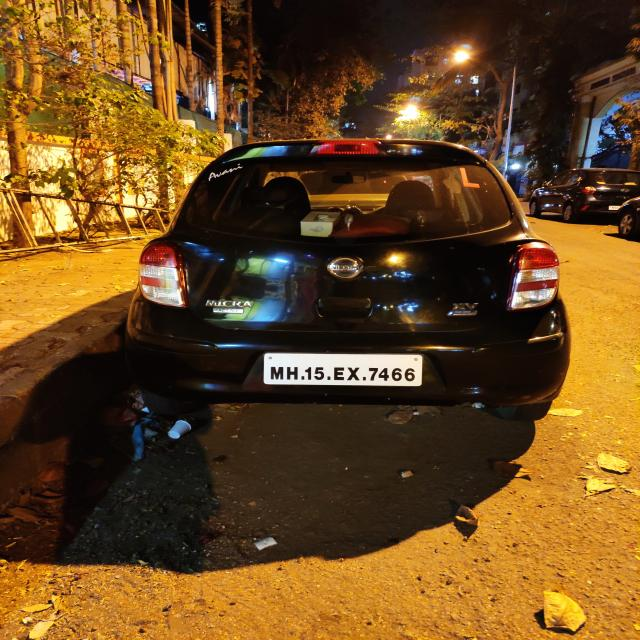Number-Plate: (268, 355, 422, 387)
